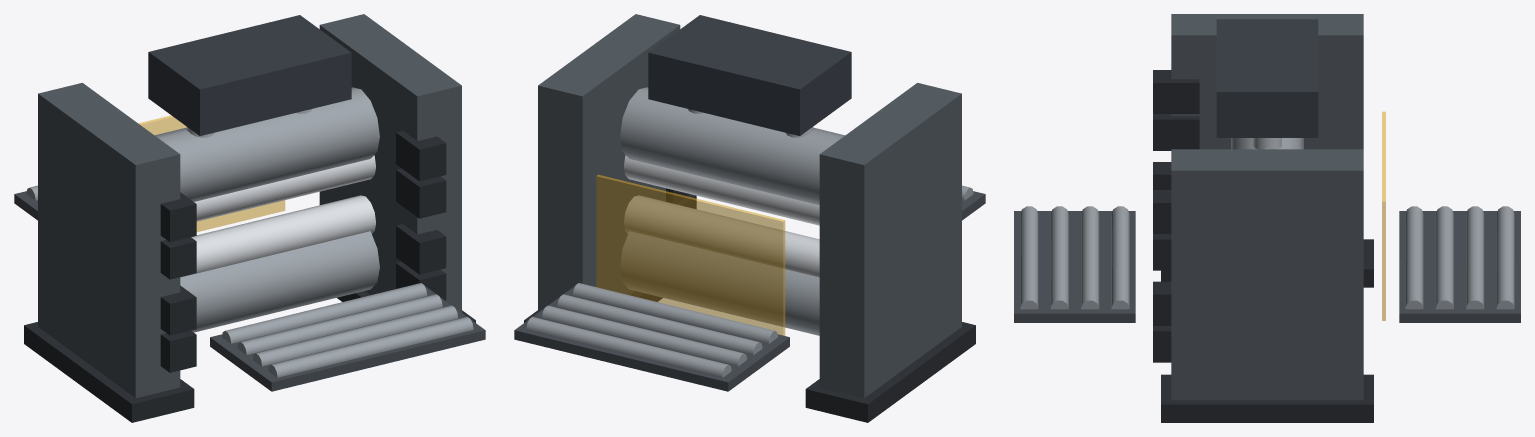
Rendered from equipment--rollingMillStand.glb.
3 renders of one model, left to right at view 1: azimuth 30°, elevation 25°; view 2: azimuth 150°, elevation 25°; view 3: azimuth 270°, elevation 25°, orthographic.
Parts seen in each view (by area): view 1: housingL, housingR, screwdown, exitTable, backupRollTop, rollingMillStand:shell, backupRollBottom, workRollBottom, workRollTop, guardGate, entryTable; view 2: housingL, housingR, guardGate, screwdown, entryTable, backupRollTop, backupRollBottom, workRollBottom, workRollTop, exitTable, rollingMillStand:shell; view 3: housingR, entryTable, exitTable, screwdown, housingL, rollingMillStand:shell, guardGate, backupRollTop.
Boxes of the visible parts, x1,y1,x2,y2 form: housingL: (24,82,194,422); housingR: (319,14,475,322); screwdown: (148,15,351,137); exitTable: (210,283,485,391); backupRollTop: (155,87,379,201); rollingMillStand:shell: (160,130,446,372); backupRollBottom: (180,231,379,332); workRollBottom: (180,195,375,277); workRollTop: (194,155,375,221); guardGate: (138,115,285,231); entryTable: (14,185,37,220); housingL: (805,82,975,422); housingR: (524,14,680,322); guardGate: (596,174,785,335); screwdown: (648,15,851,137); entryTable: (514,283,789,391); backupRollTop: (620,87,844,205); backupRollBottom: (620,231,819,335); workRollBottom: (624,195,819,277); workRollTop: (624,155,819,225); exitTable: (962,185,985,220); rollingMillStand:shell: (666,188,696,208); housingR: (1161,149,1373,422); entryTable: (1399,206,1520,322); exitTable: (1014,206,1135,322); screwdown: (1216,19,1318,149); housingL: (1161,14,1373,287); rollingMillStand:shell: (1153,70,1199,362); guardGate: (1382,111,1385,320); backupRollTop: (1231,138,1303,149).
Bounding box in the file's own units: 3.86 × 3.1 × 5.
